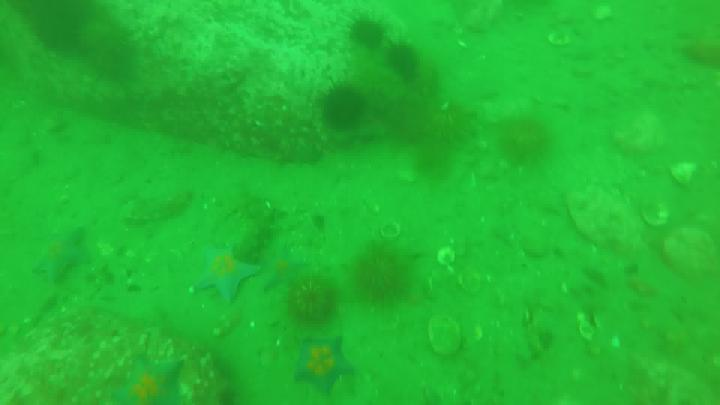echinus: (356, 239, 410, 308), (81, 17, 139, 77), (498, 108, 556, 168), (25, 1, 90, 51), (287, 279, 341, 324), (322, 86, 365, 126), (385, 46, 422, 78), (350, 19, 387, 50)
scallop: (428, 318, 464, 360), (641, 199, 671, 230), (460, 269, 482, 294), (437, 246, 459, 269), (380, 220, 400, 242), (548, 31, 571, 47), (580, 322, 597, 342)
starfish: (192, 243, 260, 303), (290, 337, 352, 401), (34, 225, 96, 286), (113, 360, 185, 405), (264, 248, 303, 300)
